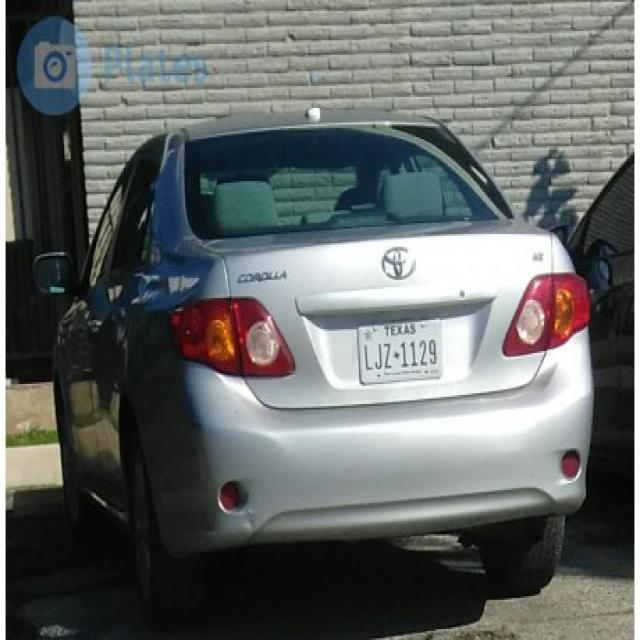license: (355, 323, 451, 387)
